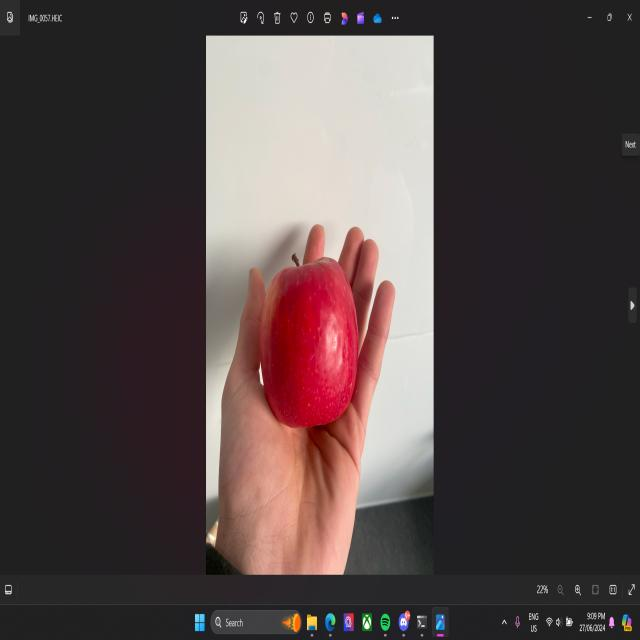Apple: (260, 258, 359, 427)
